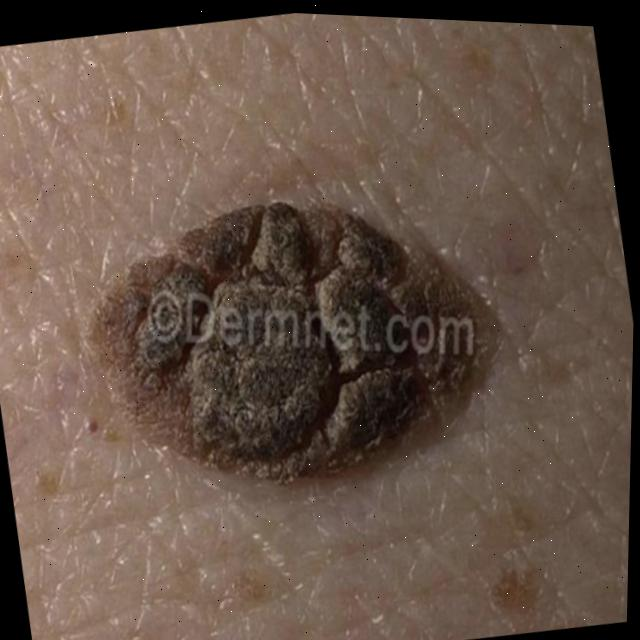Eczema: (86, 163, 491, 502)
